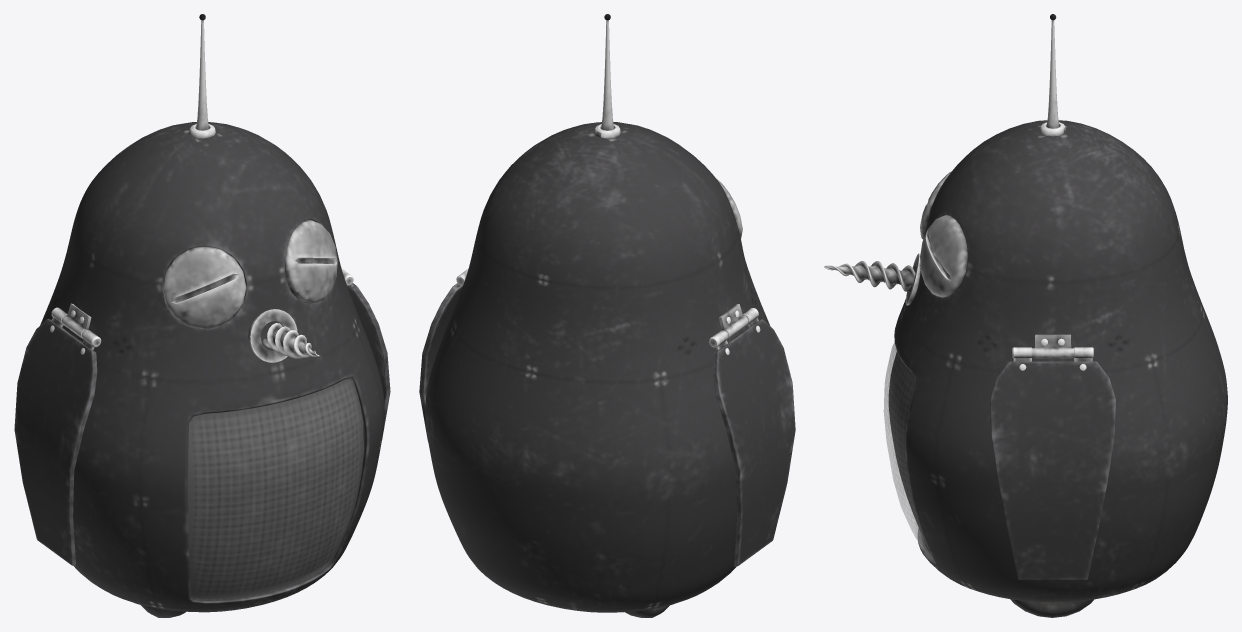
File: weathered-penguin-bot-33afc2.glb
3 renders of one model, left to right at view 1: azimuth 30°, elevation 25°; view 2: azimuth 150°, elevation 25°; view 3: azimuth 270°, elevation 25°, orthographic.
Parts seen in each view (by area): view 1: PropMesh; view 2: PropMesh; view 3: PropMesh.
Boxes of the visible parts, x1,y1,x2,y2 form: PropMesh: [14, 14, 390, 617]; PropMesh: [419, 14, 795, 617]; PropMesh: [824, 14, 1227, 617].
Size of the model in its own units: 0.4 by 0.7 by 0.4426.
Materials: 1 (1 with a texture image).
